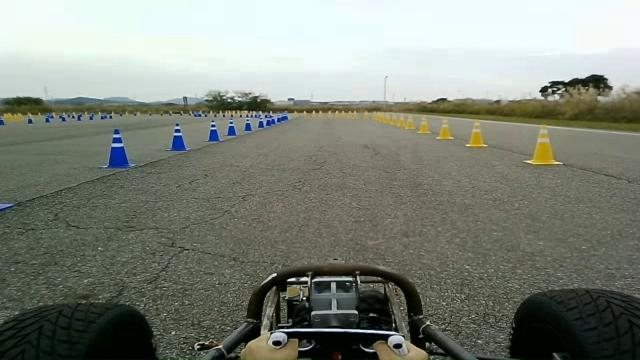blue cone: (98, 128, 138, 169), (165, 122, 190, 152), (203, 120, 224, 142), (225, 116, 237, 136), (243, 117, 253, 131), (277, 111, 288, 122), (265, 114, 275, 126), (0, 203, 15, 210), (266, 118, 274, 127), (257, 120, 264, 128), (276, 114, 282, 123), (281, 115, 288, 121)
yellow cone: (523, 124, 563, 165), (464, 119, 488, 147), (436, 118, 454, 139), (416, 115, 431, 134), (404, 114, 416, 130), (396, 113, 405, 128)
